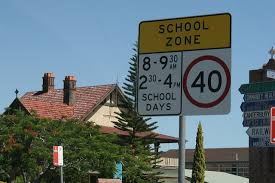sp40: (184, 53, 235, 112)
